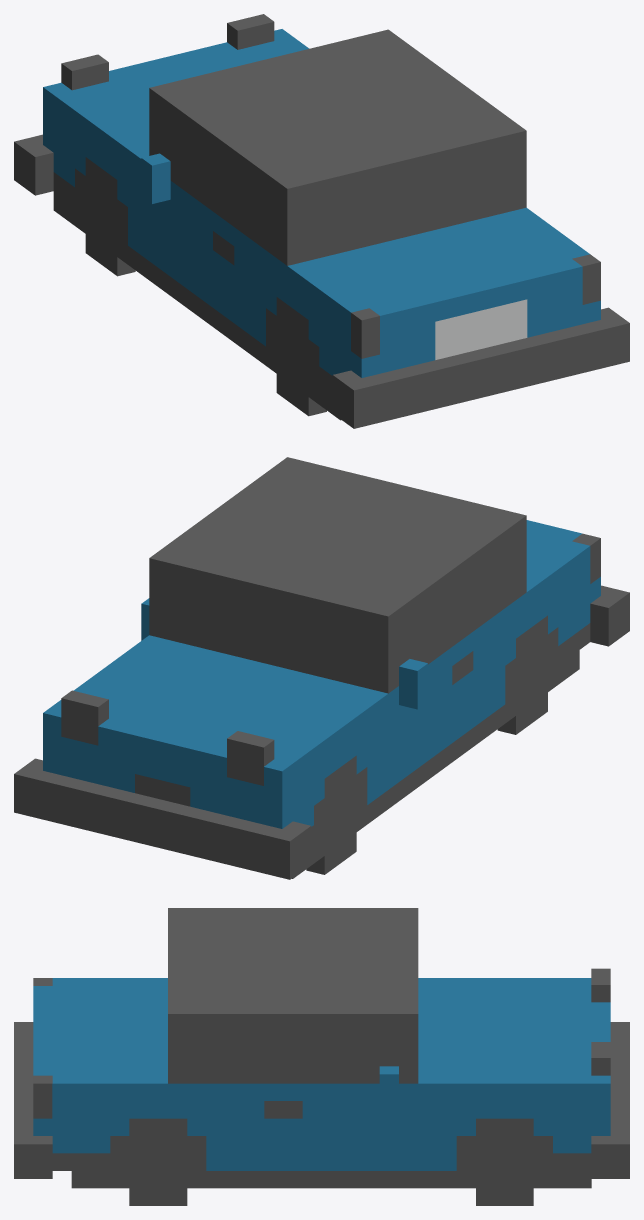
The model's file is veh_car1.obj.
The picture shows the model from 3 angles, top to bottom: view 1: azimuth 30°, elevation 25°; view 2: azimuth 150°, elevation 25°; view 3: azimuth 270°, elevation 25°; orthographic projection. The views are drawn at different scales.
Size of the model in its own units: 15 by 11 by 32.
